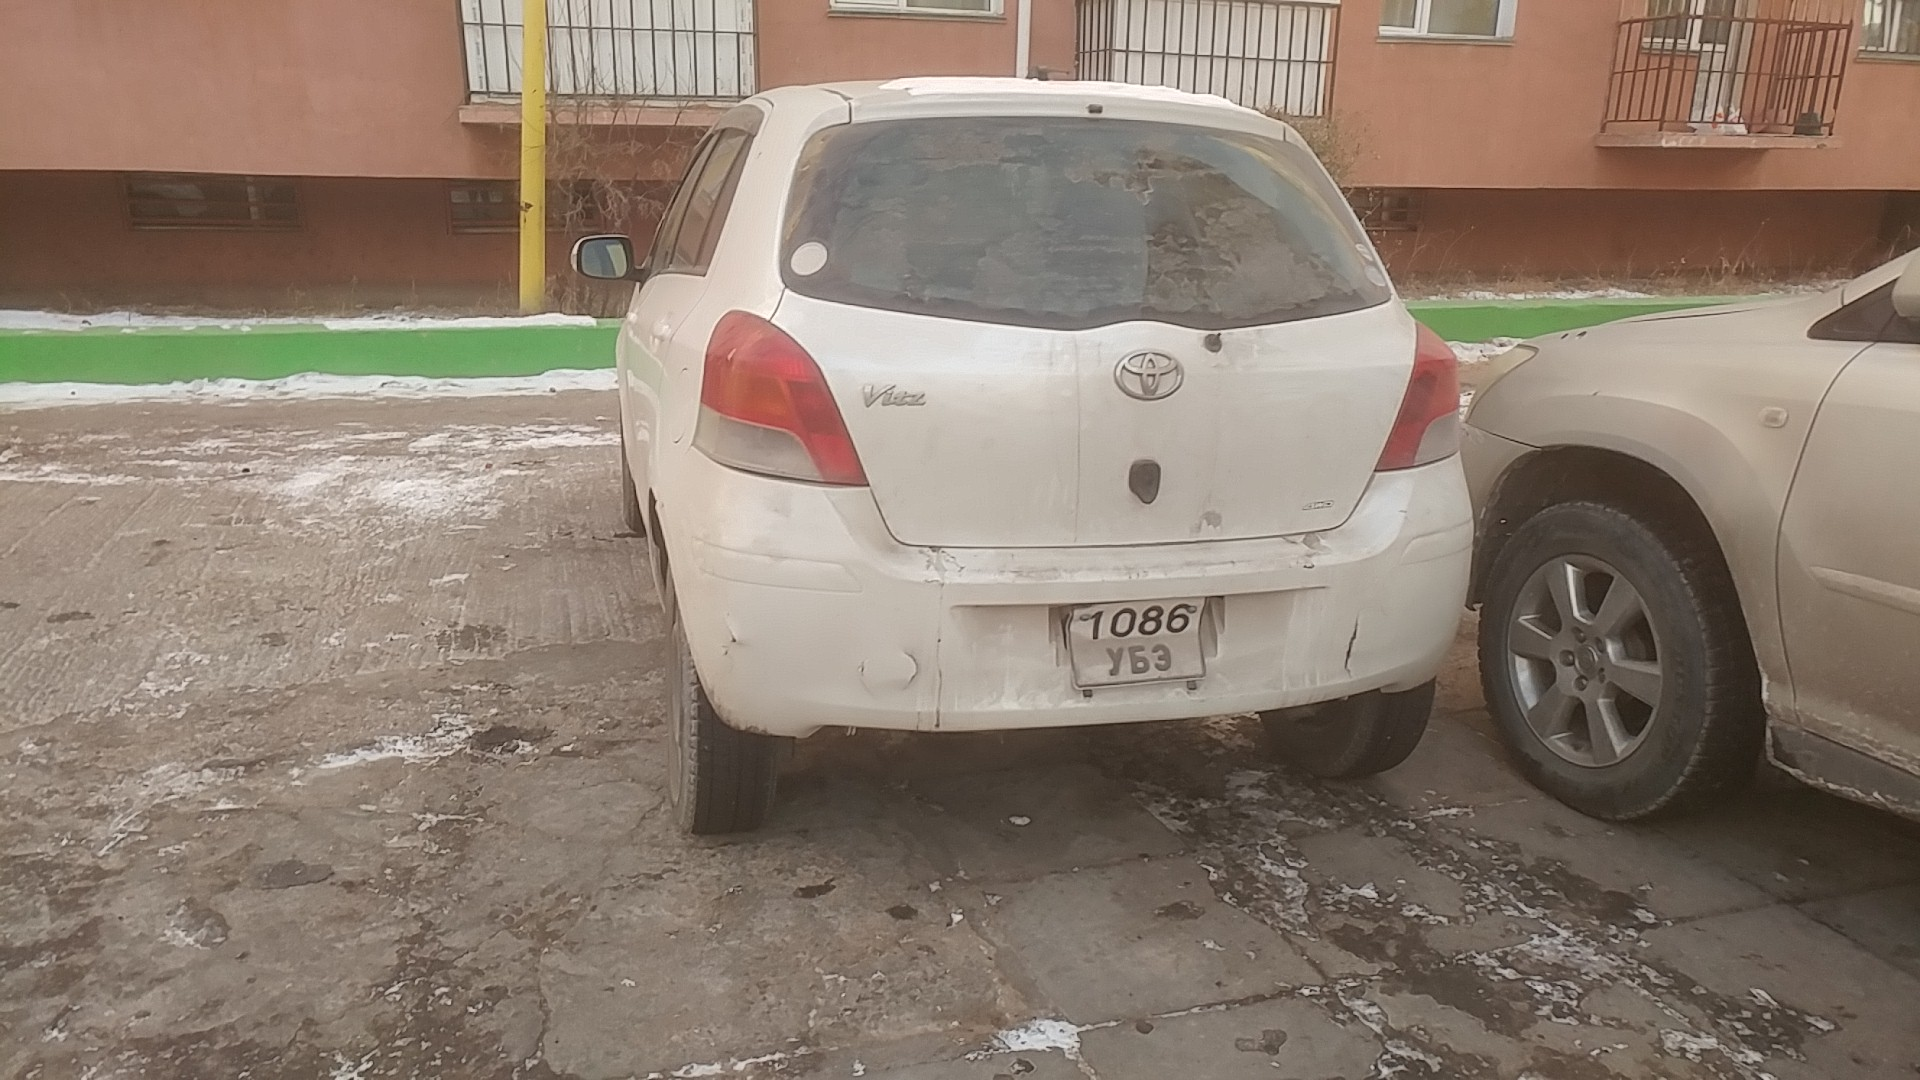0: (1109, 606, 1137, 639)
1: (1088, 609, 1104, 640)
6: (1165, 603, 1193, 633)
8: (1138, 603, 1164, 636)
b: (1126, 644, 1151, 675)
e: (1150, 643, 1173, 672)
plate: (1065, 593, 1213, 690)
u: (1107, 646, 1127, 676)
